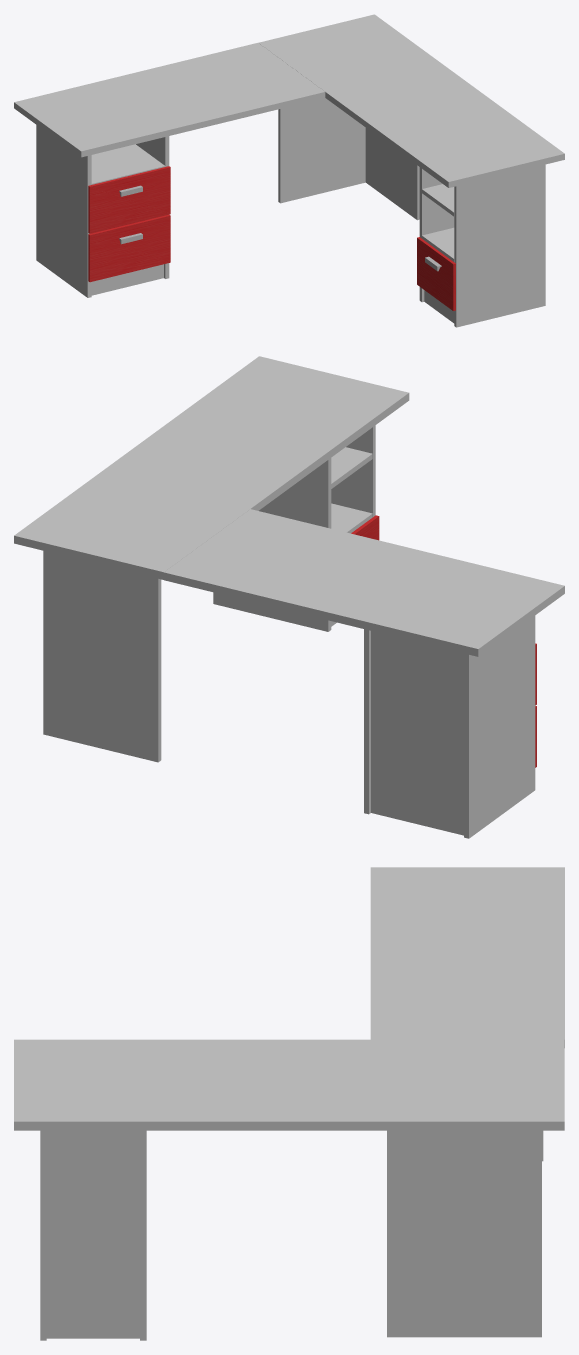
Rendered from Table.FBX.
3 renders of one model, top to bottom at view 1: azimuth 30°, elevation 25°; view 2: azimuth 150°, elevation 25°; view 3: azimuth 270°, elevation 25°, orthographic. The views are drawn at different scales.
Parts seen in each view (by area): view 1: table; view 2: table; view 3: table.
Part boxes in pixels (x1,y1,x2,y2): table: (14, 14, 564, 327); table: (14, 356, 564, 838); table: (14, 867, 564, 1340).
Bounding box in the file's own units: 186 × 77.01 × 170.
